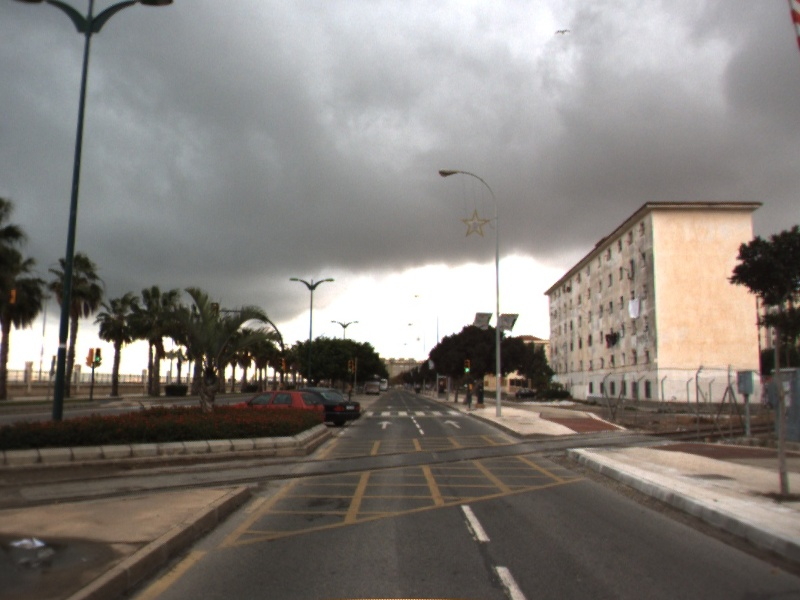STRAIGHT: (442, 418, 463, 430), (376, 419, 395, 431)
